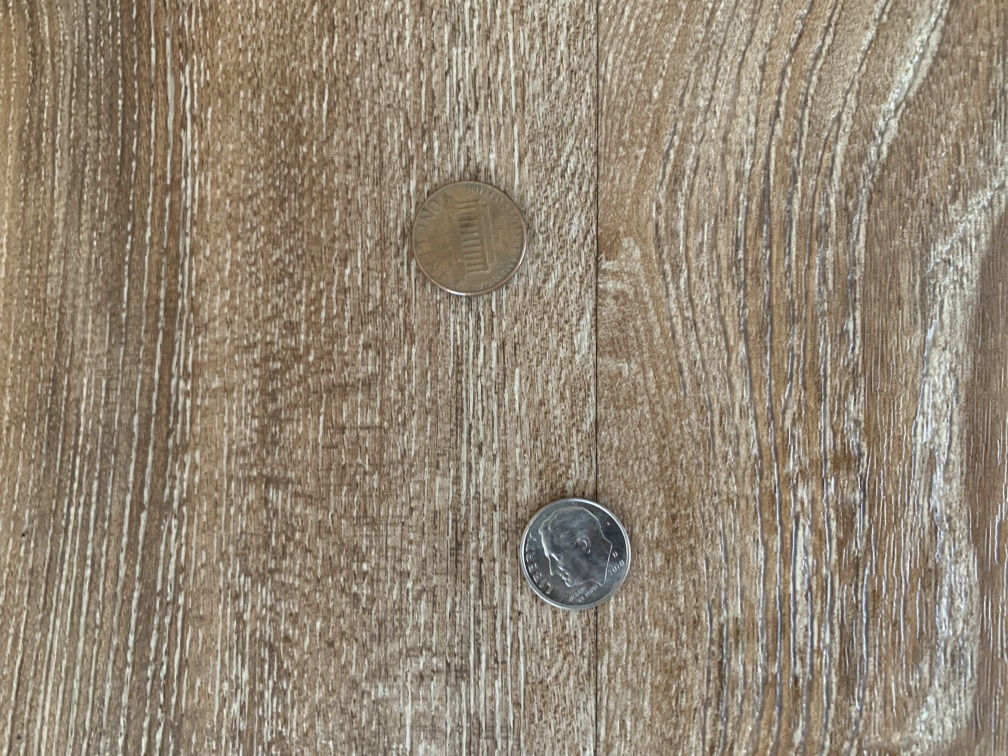dime: (518, 494, 634, 612)
penny: (406, 175, 530, 303)
